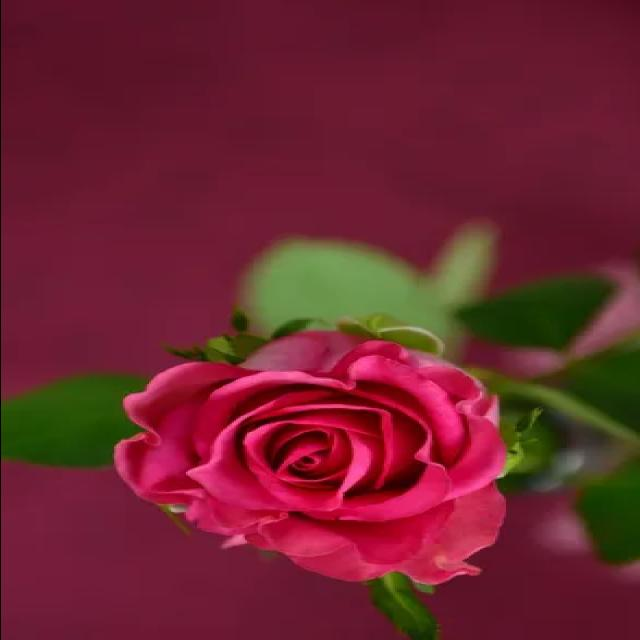rose: (96, 328, 515, 594)
